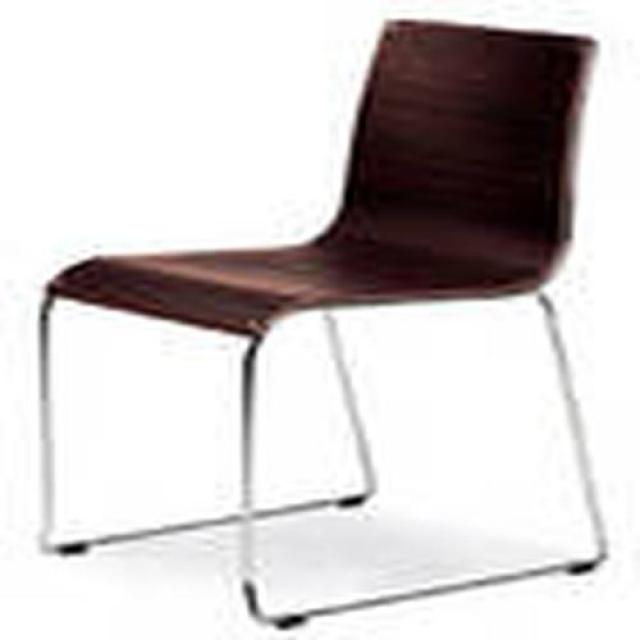chair: (37, 20, 611, 631)
